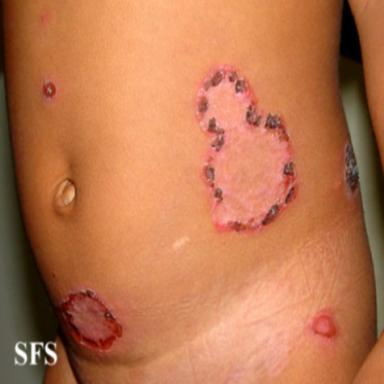Impetigo: (194, 63, 298, 233), (56, 285, 122, 352), (305, 309, 339, 343), (343, 141, 359, 198), (40, 76, 58, 103)
